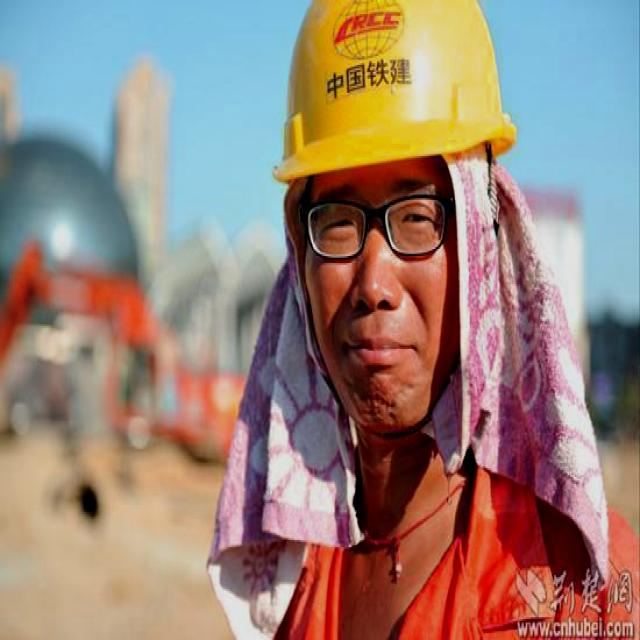face_nomask: (294, 163, 491, 426)
glasses: (301, 188, 451, 266)
head_helmet: (264, 5, 528, 165)
person: (231, 9, 640, 640)
